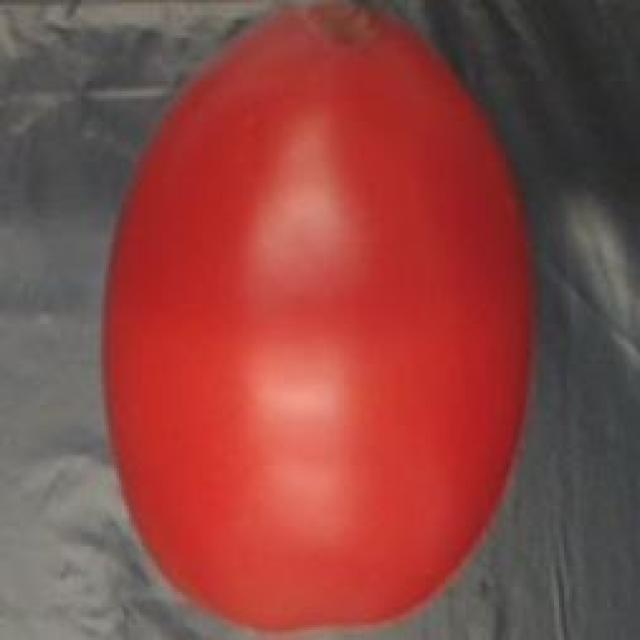ripe tomato: (88, 2, 546, 640)
